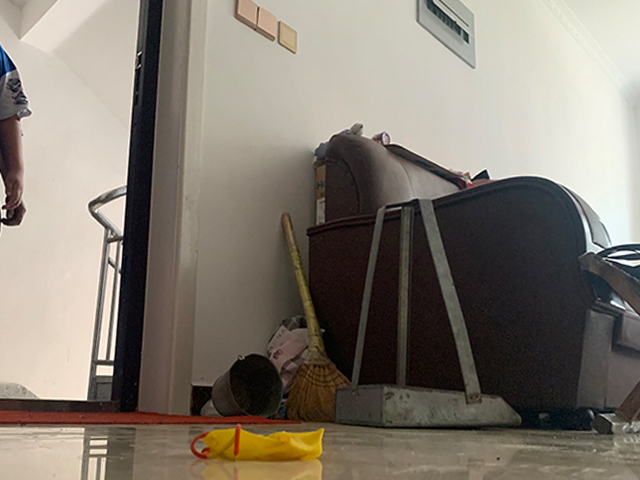carpet: (1, 408, 300, 426)
sofa: (306, 128, 640, 435)
